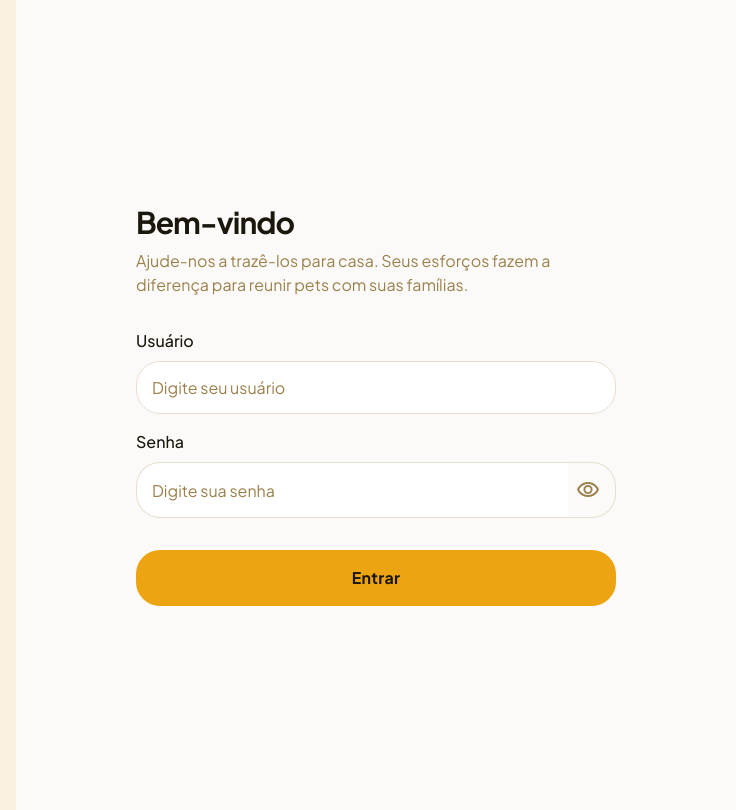
Test: LoginPage › deve exibir mensagem de erro quando o login falha
This screenshot has width=736, height=810.
Click the button "Entrar" at (376, 578), box [136,550,616,606]
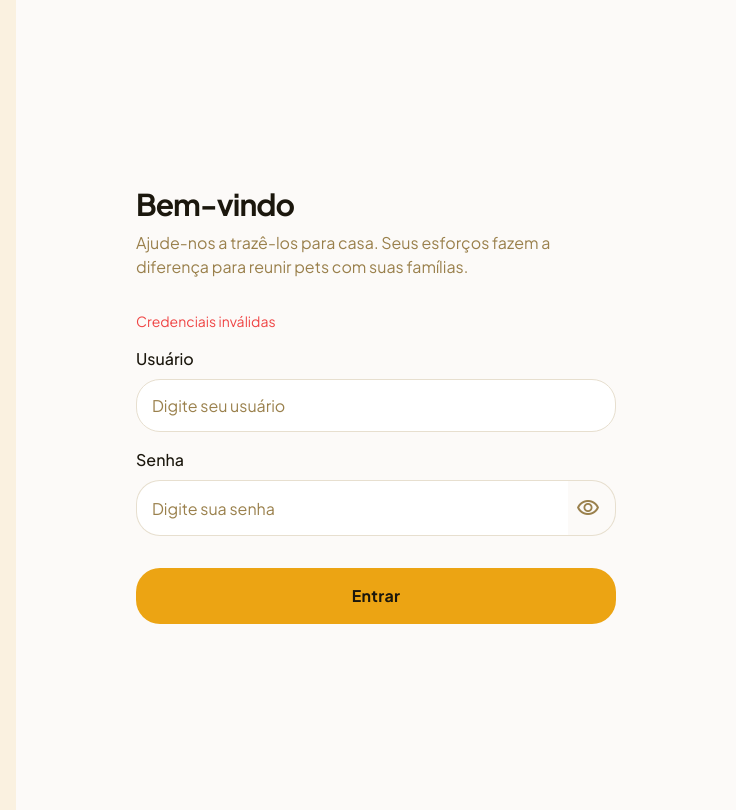
Now the text "Credenciais inválidas" is shown, box [136,312,276,330]
